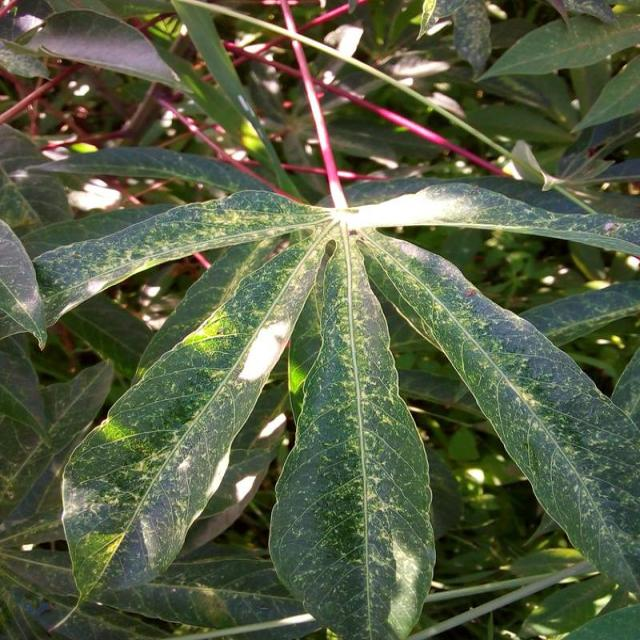cassava leaf: (33, 175, 639, 636), (61, 222, 337, 606), (268, 223, 438, 638)
